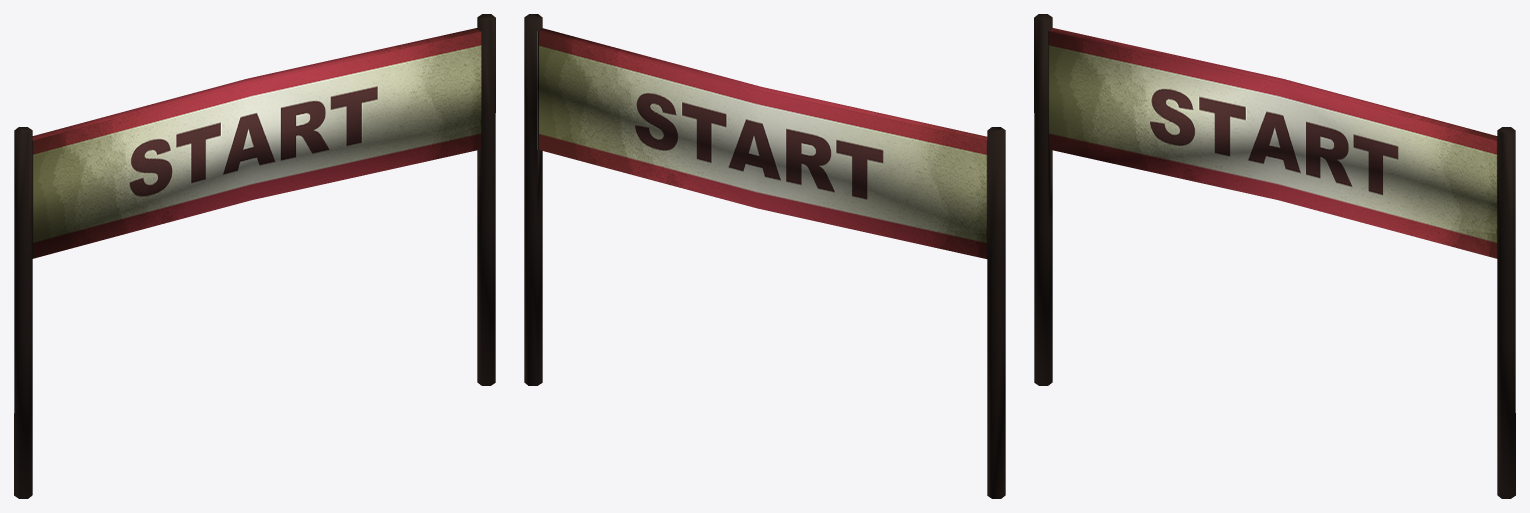
The model's file is StartingPoint.fbx.
3 views of the same model, side by side, from view 1: azimuth 30°, elevation 25°; view 2: azimuth 150°, elevation 25°; view 3: azimuth 330°, elevation 25° (orthographic).
Visible parts, largest first — view 1: Cube.001; view 2: Cube.001; view 3: Cube.001.
Part boxes in pixels (left/top/right/bottom): Cube.001: left=14, top=14, right=495, bottom=498; Cube.001: left=524, top=14, right=1005, bottom=498; Cube.001: left=1034, top=14, right=1515, bottom=498.
Size of the model in its own units: 983 by 718 by 44.78.
Materials: 1 (1 with a texture image).
